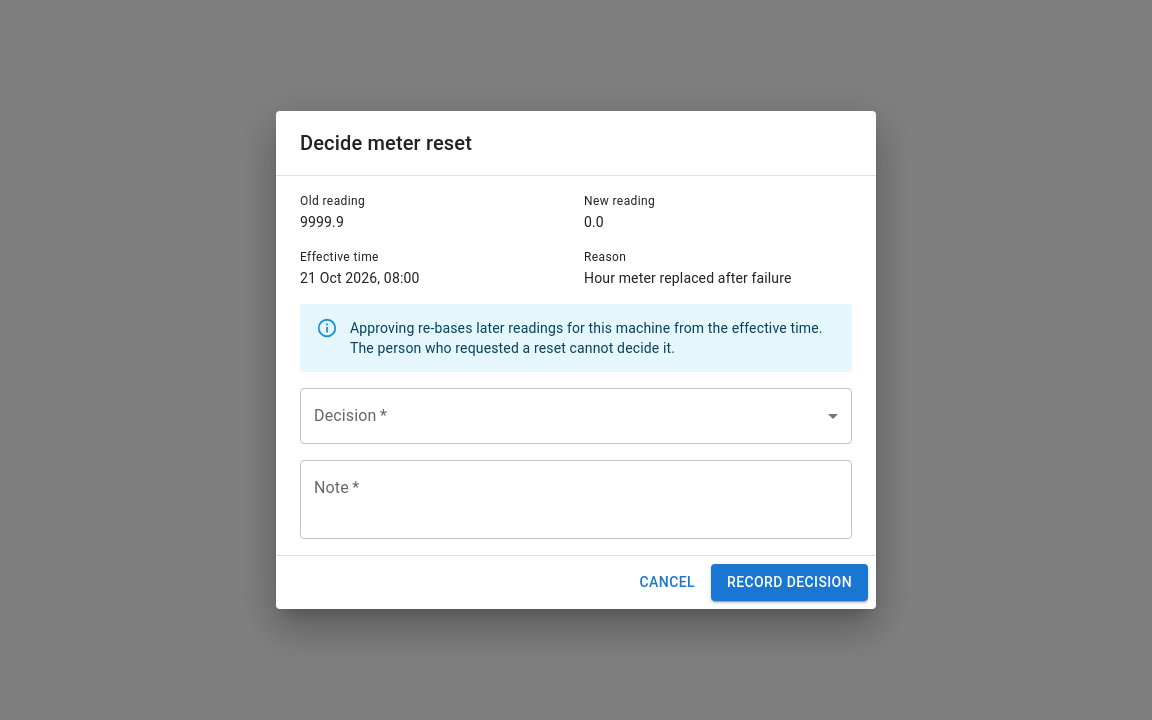
it: DecideResetDialog › shows SEGREGATION_OF_DUTIES clearly when the requester tries to approve
Click the dropdown named "Decision".
click(576, 416)  # box [300,388,852,444]
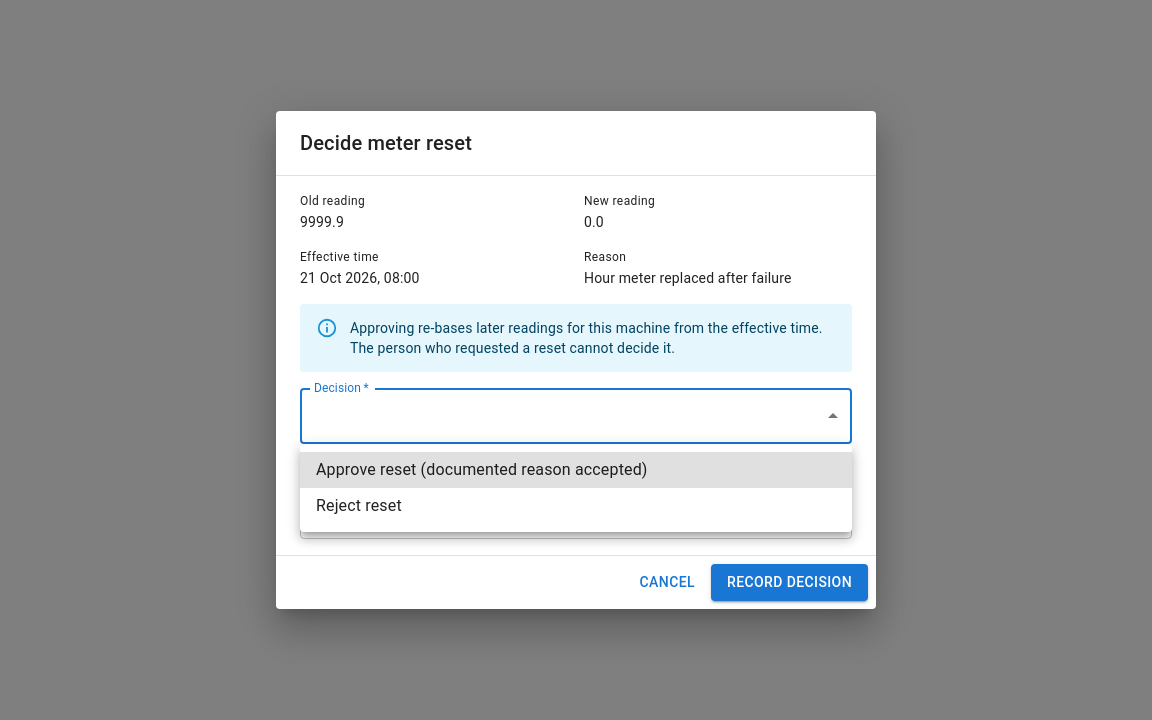
Click the option "Approve reset (documented reason accepted)".
click(576, 470)  # box [300,452,852,488]
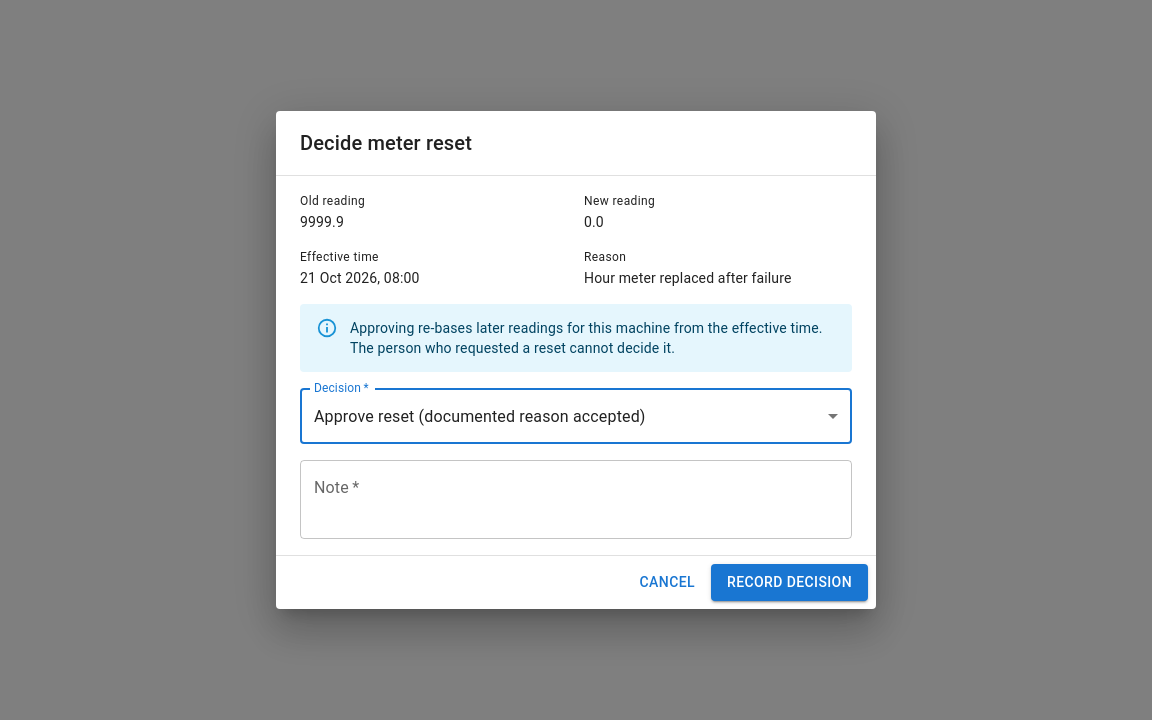
Type "Workshop card attached" into the text box labelled "Note *".
click(576, 500); type("Workshop card attached")  # box [314,477,838,523]
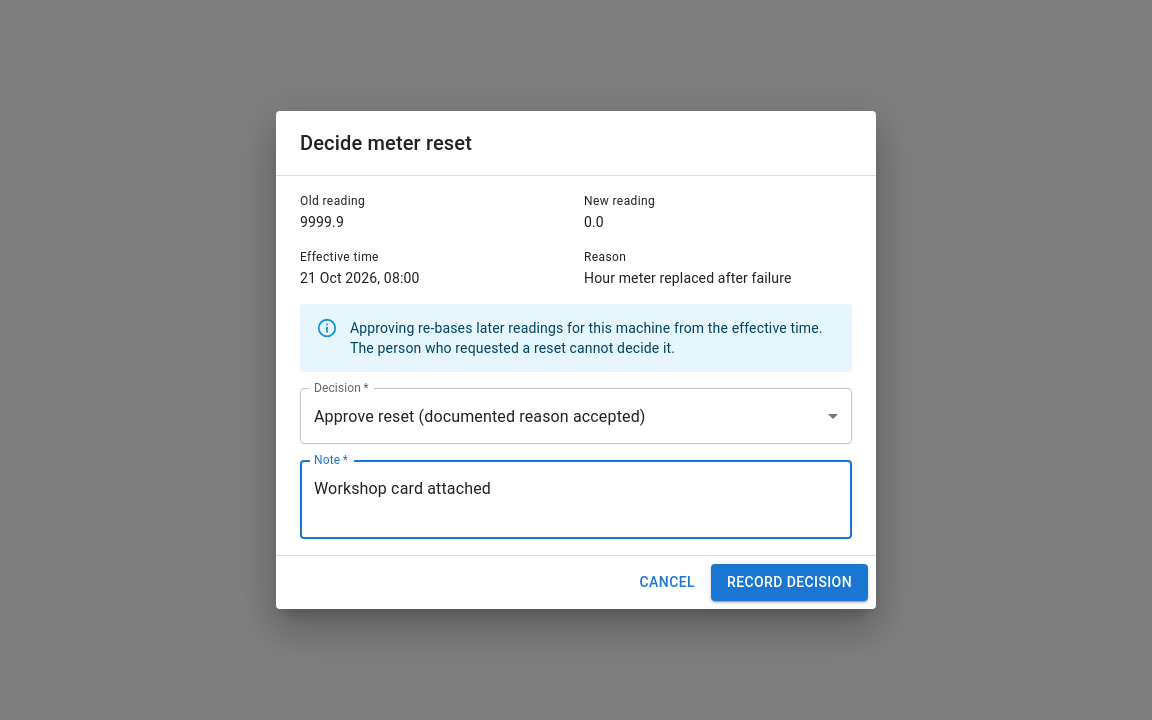
Click the button "Record decision".
click(790, 582)  # box [711,564,868,601]
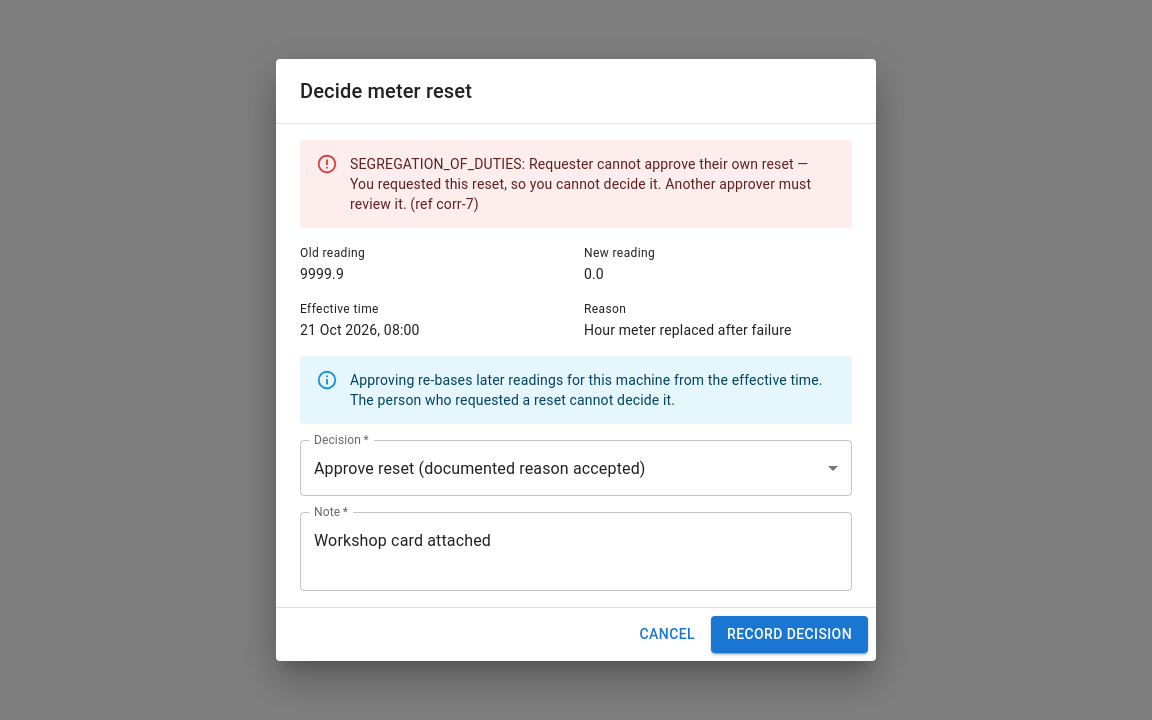
expect the text "SEGREGATION_OF_DUTIES: Requester cannot approve" shows "Another approver must review it": met, box [350,156,811,212]
